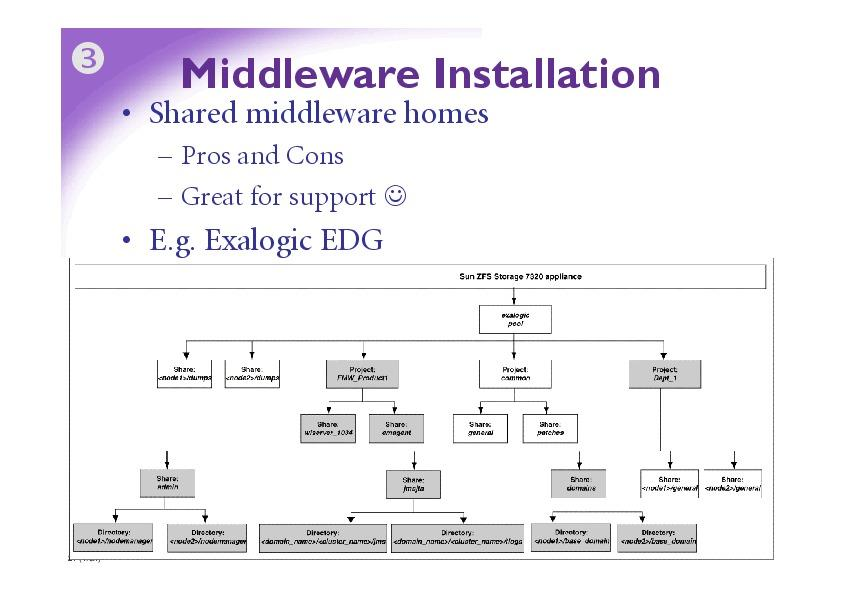paragraph: (104, 99, 683, 288)
title: (172, 43, 680, 96)
